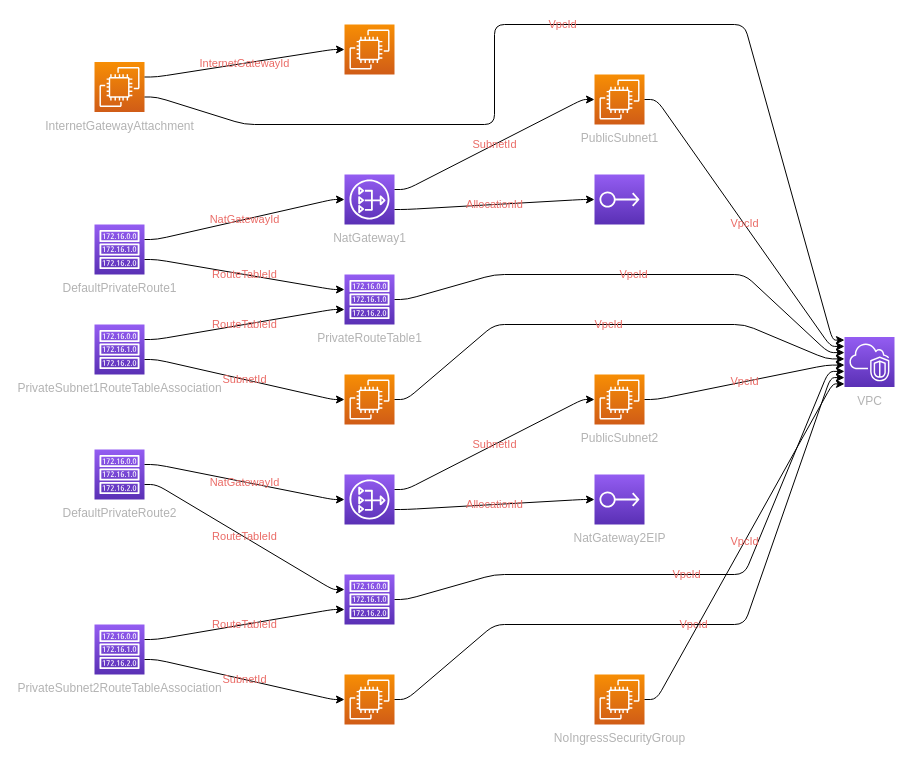
The diagram is 912 pixels wide and 763 high, and some of its shapes have lost their labels. Here are the shapes that lost their labels. From the top down, the centre of each, then its label:
At [369,49]: "InternetGateway".
At [619,199]: "NatGateway1EIP".
At [369,399]: "PrivateSubnet1".
At [369,499]: "NatGateway2".
At [369,599]: "PrivateRouteTable2".
At [369,699]: "PrivateSubnet2".
